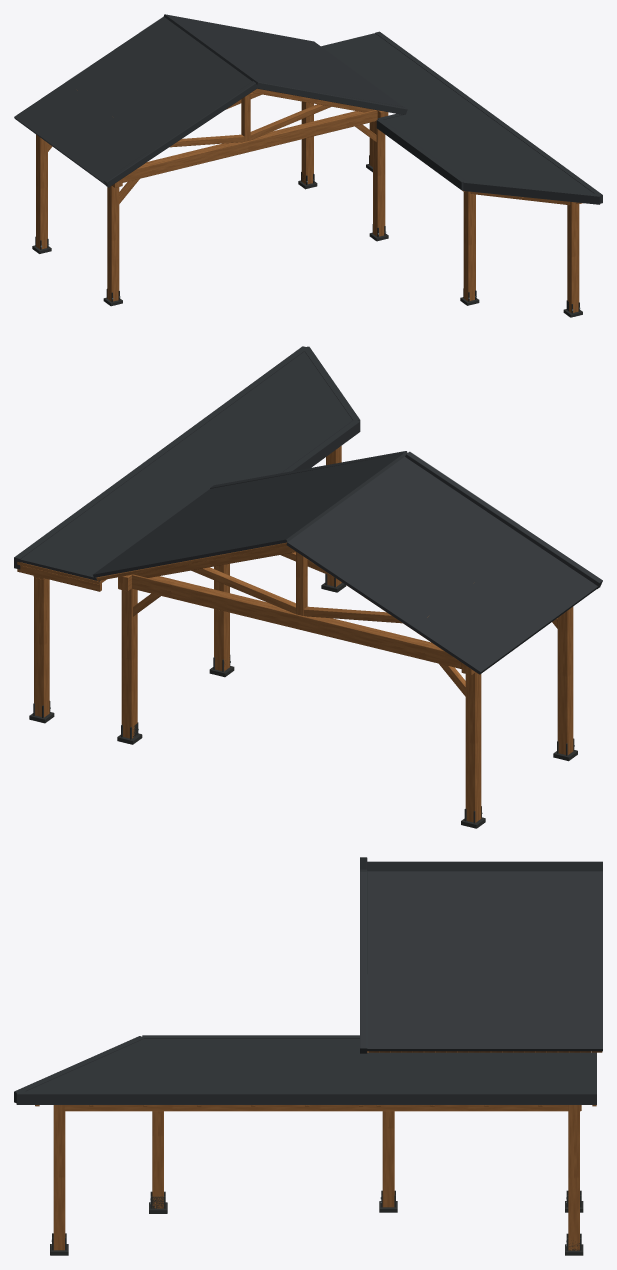
File: d1_madera_dos_aguas.glb
The picture shows the model from 3 angles, top to bottom: view 1: azimuth 30°, elevation 25°; view 2: azimuth 150°, elevation 25°; view 3: azimuth 270°, elevation 25°; orthographic projection. The views are drawn at different scales.
Visible parts, largest first — view 1: MESH_D1_MADERA_DOS_AGUAS; view 2: MESH_D1_MADERA_DOS_AGUAS; view 3: MESH_D1_MADERA_DOS_AGUAS.
Part boxes in pixels (x1,y1,x2,y2): MESH_D1_MADERA_DOS_AGUAS: (14,14,602,317); MESH_D1_MADERA_DOS_AGUAS: (14,346,602,828); MESH_D1_MADERA_DOS_AGUAS: (14,857,602,1255).
Bounding box in the file's own units: 7.4 × 3.8 × 7.97.
6 materials, 1 textured.
